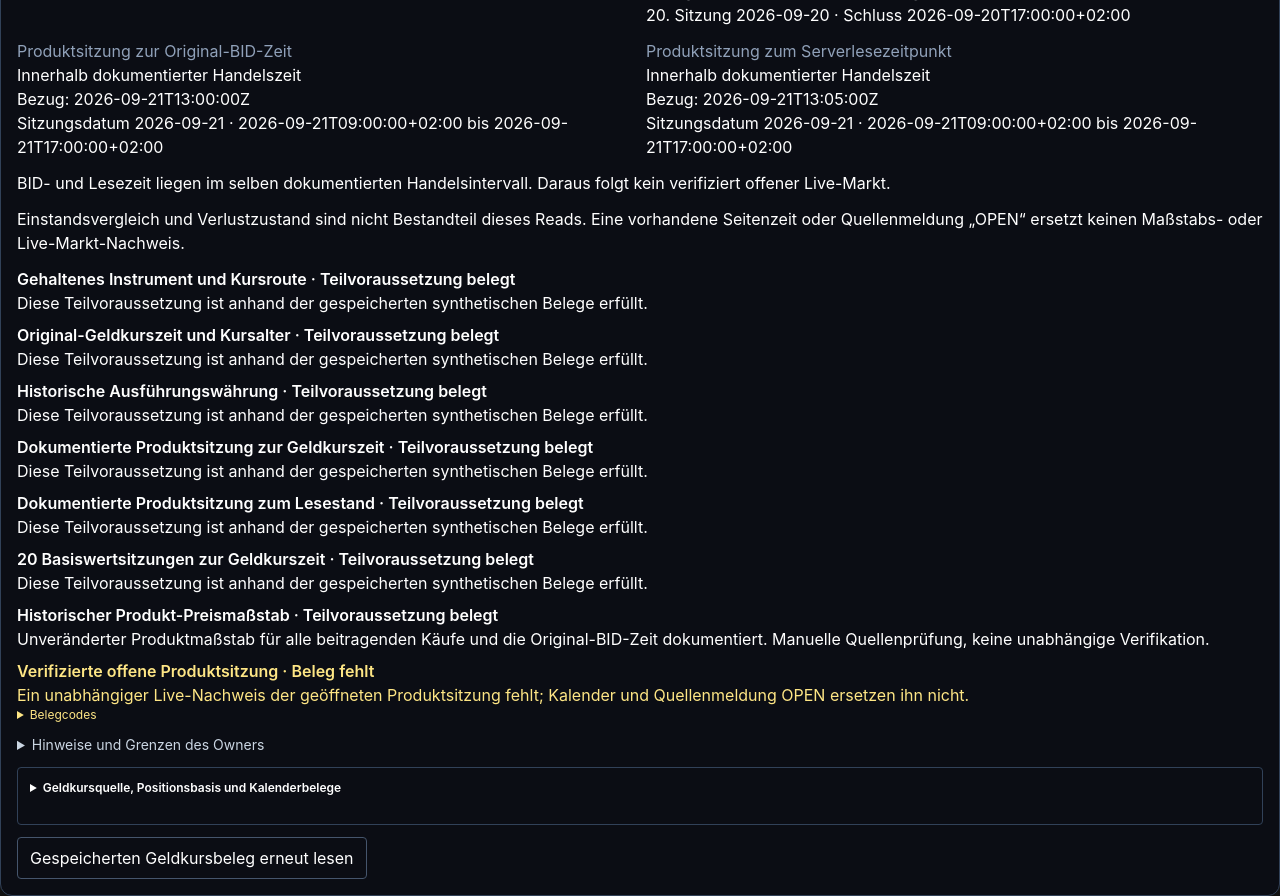
Test case: shows the bounded original product document and both owner contributions without activating a rule
(page scrolled)
Expected: the text "Historischer Produkt-Preismaßstab · Teilvoraussetzung belegt" is shown, [17,605,498,625]
Expected: the text "Verifizierte offene Produktsitzung · Beleg fehlt" is shown, [17,661,374,681]
Step 1. Click the heading "Geldkursquelle, Positionsbasis und Kalenderbelege" → (192, 788), box [43,780,341,795]
(page scrolled)
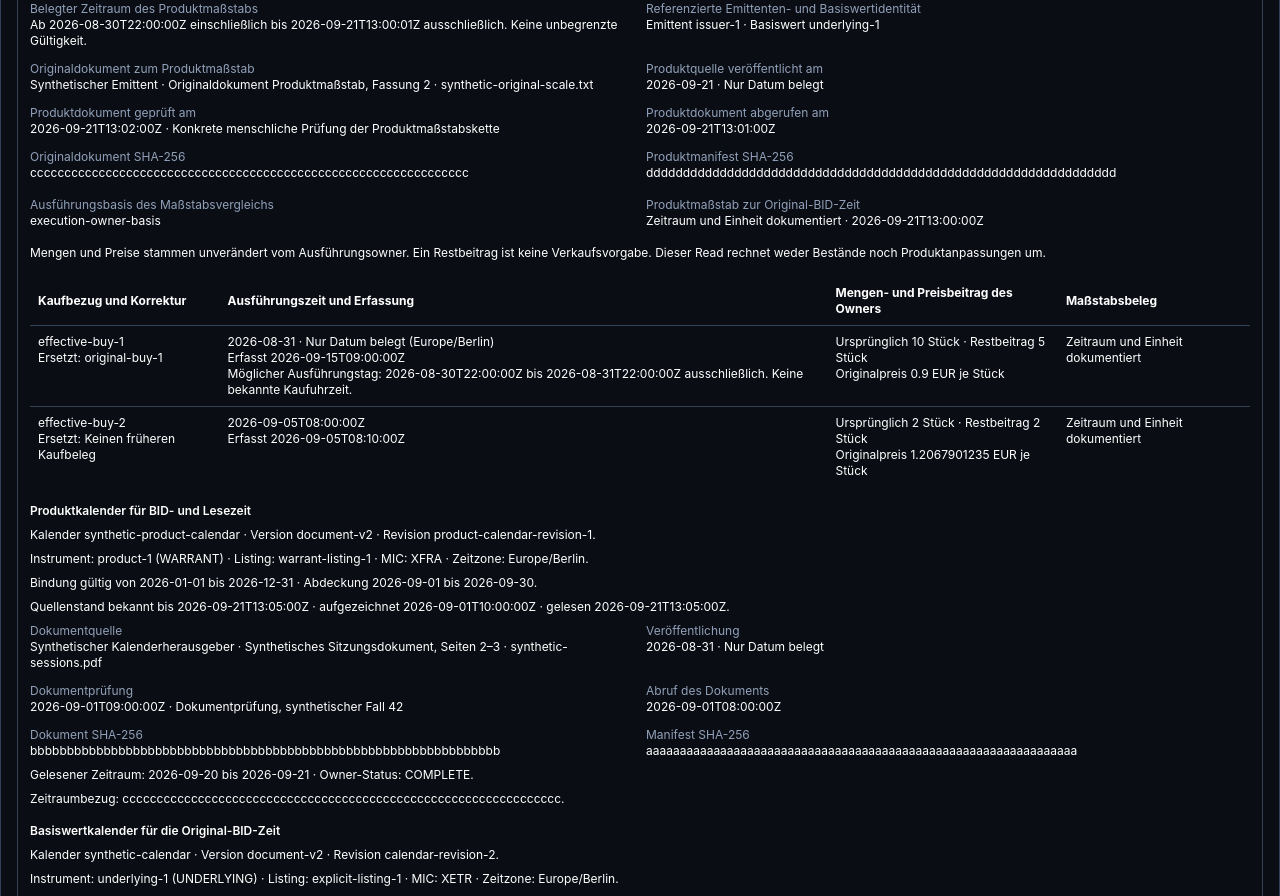
Expected: the element showing "2026-09-21 · Nur Datum belegt" is shown, [646,77,824,92]
Expected: the number of rows is 3, [30,277,1250,326]; [30,326,1250,406]; [30,406,1250,487]
Expected: the row that starts with "effective-buy-1" is shown, [38,334,124,349]
